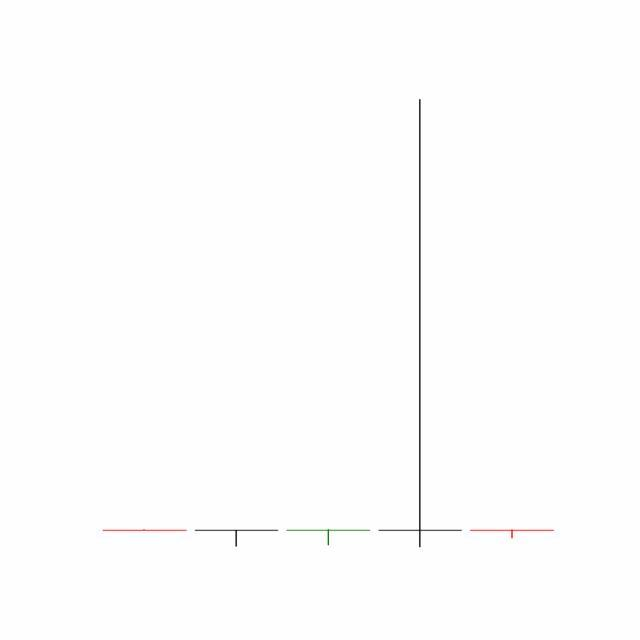Dragonfly Doji: (466, 530, 559, 540)
